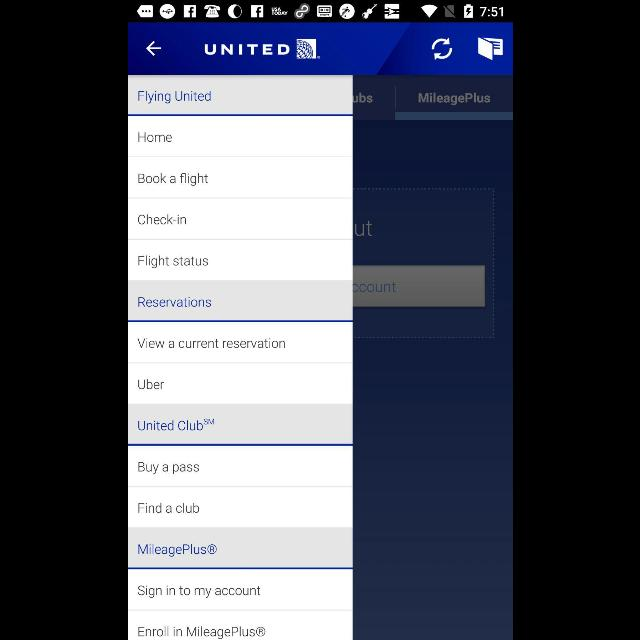icon: (478, 38, 502, 61), (431, 38, 452, 61), (145, 42, 161, 56)
image: (202, 39, 320, 59)
panel: (128, 76, 352, 640)
text: (138, 626, 264, 640), (136, 586, 260, 598), (136, 338, 284, 348), (138, 418, 214, 432), (137, 90, 210, 104), (138, 544, 216, 556), (137, 296, 210, 308), (137, 256, 207, 268), (137, 174, 207, 186), (137, 502, 199, 514), (138, 462, 198, 474), (137, 214, 185, 226), (137, 132, 171, 142), (138, 378, 164, 389)
toolbar: (128, 23, 512, 75)
uppertaskbar: (128, 1, 512, 23)
